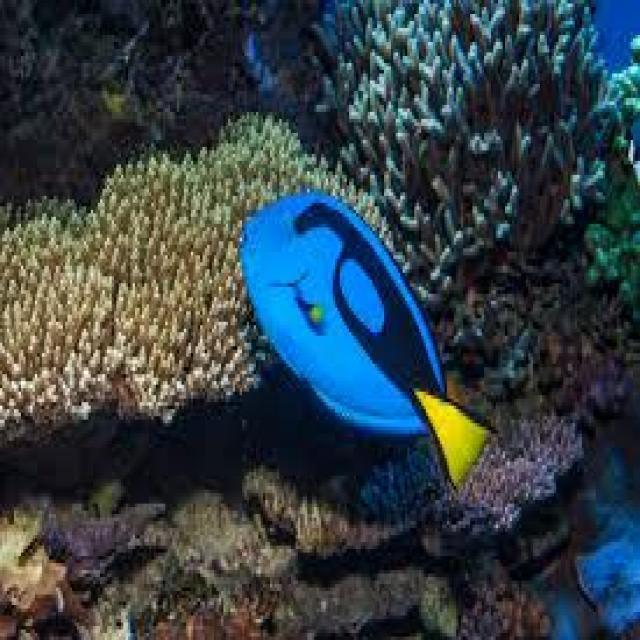TangFish: (240, 189, 493, 494)
